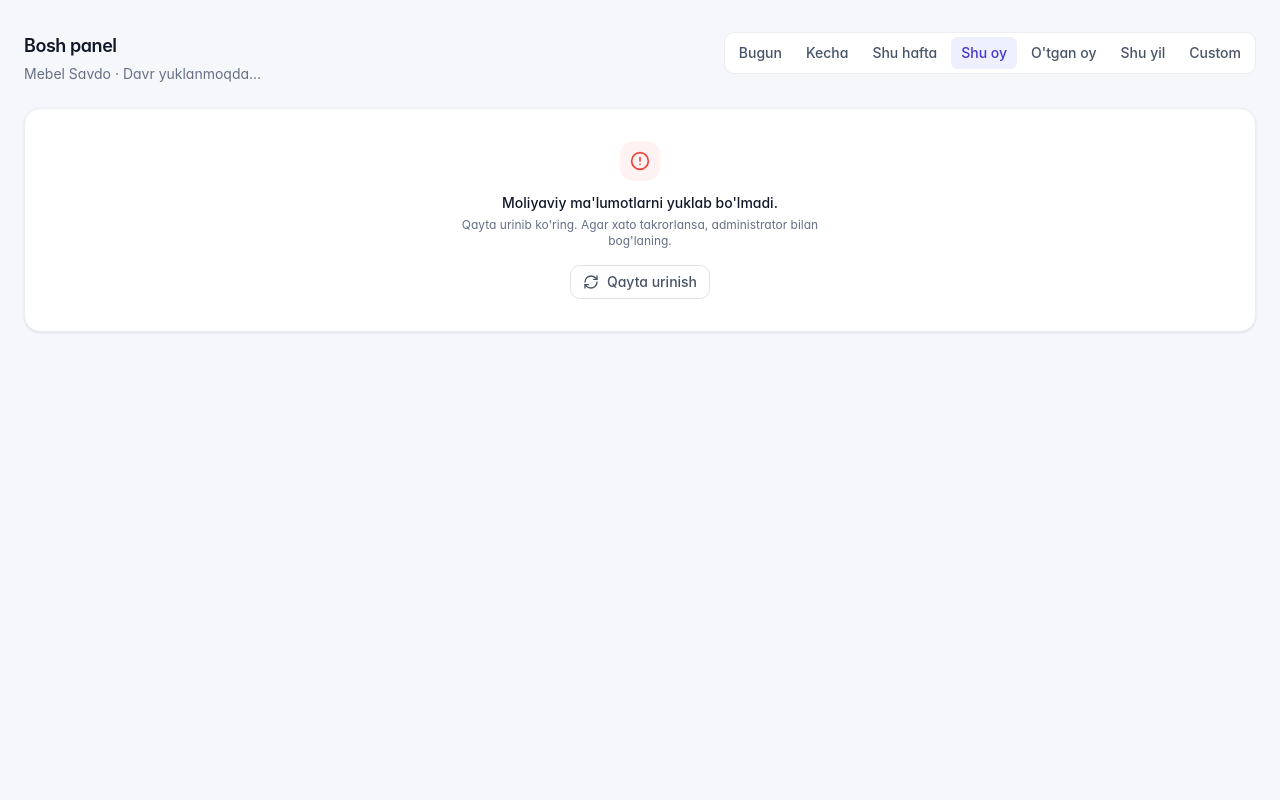
Scenario: DashboardPage (financial summary) › shows an error state with Qayta urinish when the API fails
Expected: the message is shown, x1=462 y1=141 x2=818 y2=299
Expected: the text "Moliyaviy ma'lumotlarni yuklab bo'lmadi." is shown, x1=502 y1=193 x2=778 y2=213
Click the button "Qayta urinish".
click(640, 282)  # box x1=570 y1=265 x2=710 y2=299
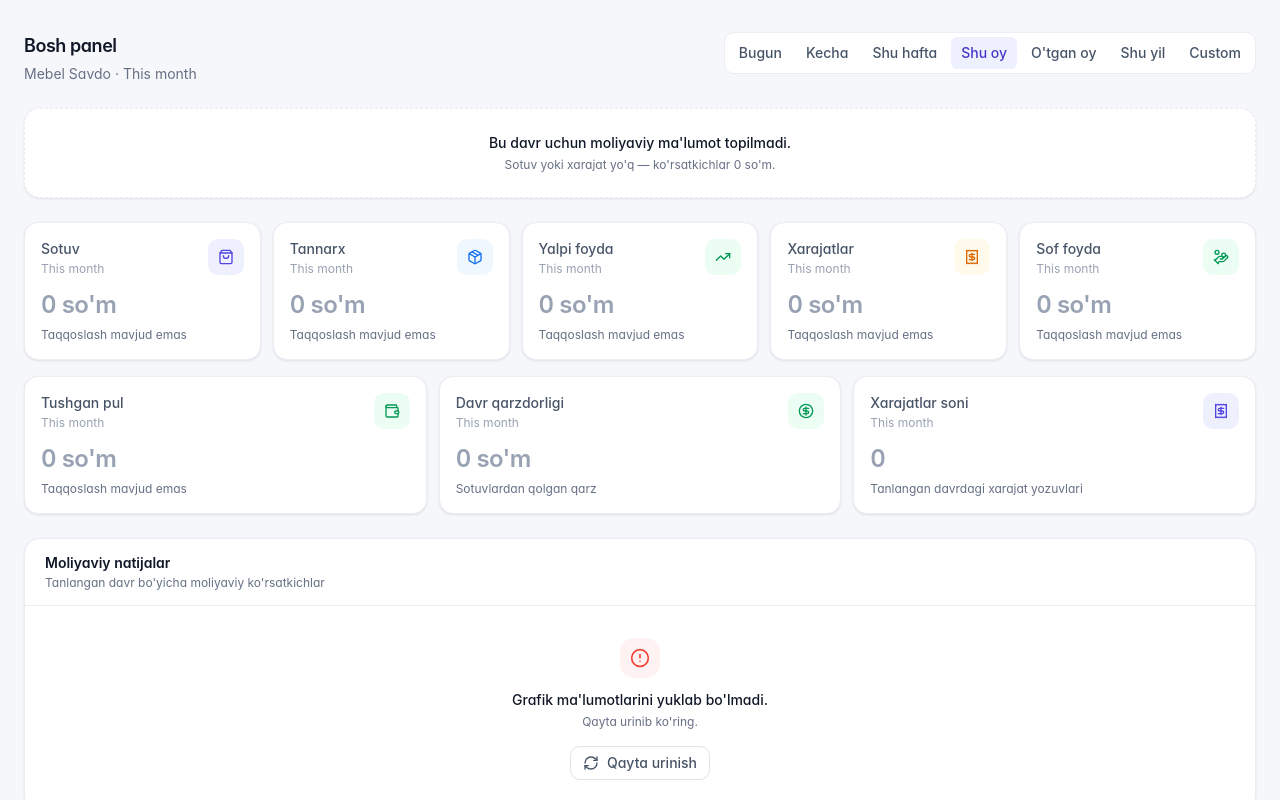
Now the heading "Sotuv" is shown, box x1=41 y1=240 x2=80 y2=257
Now the text "Moliyaviy ma'lumotlarni yuklab bo'lmadi" is gone
